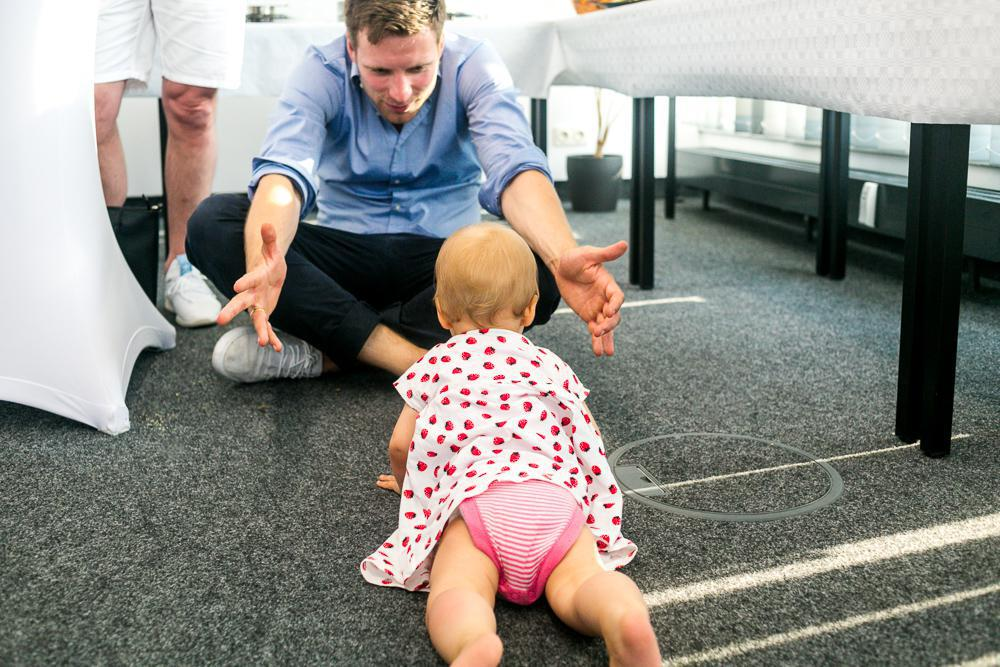child: (356, 217, 680, 667)
